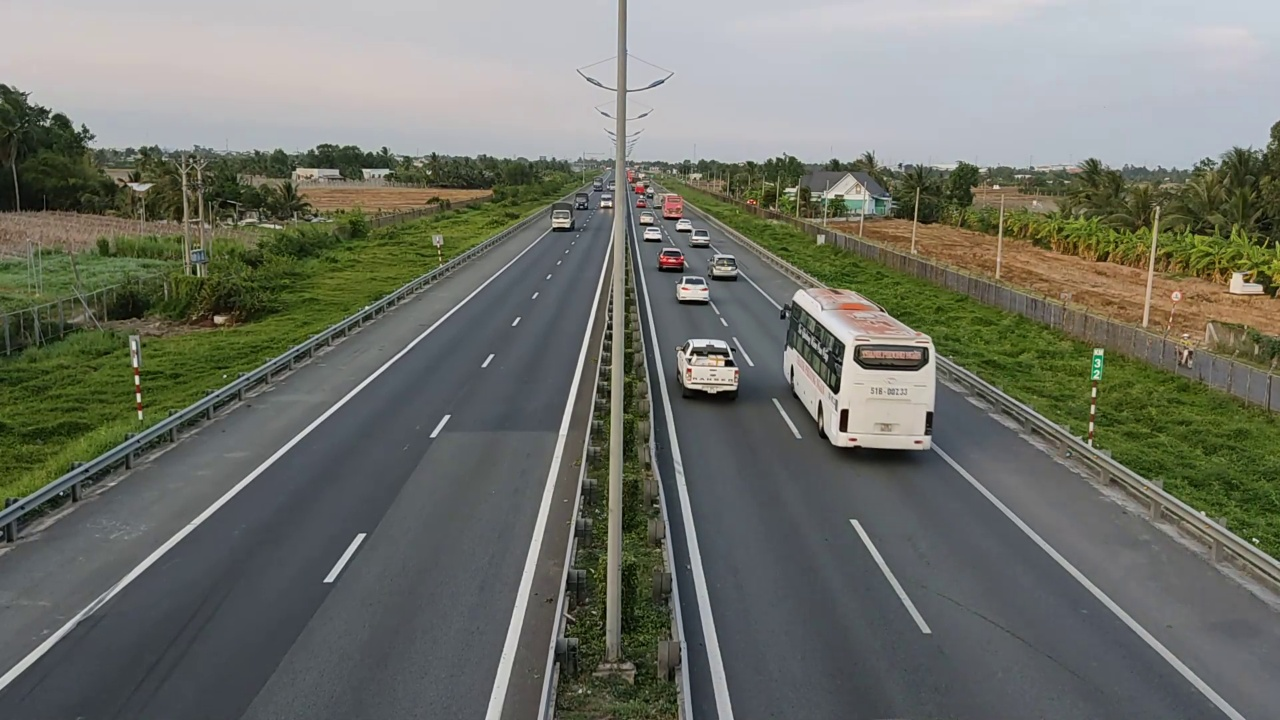bus: (779, 283, 937, 453)
car: (674, 337, 740, 397), (674, 275, 708, 302), (707, 253, 737, 279), (656, 247, 684, 270)
